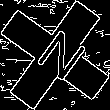N_SW: (24, 23, 86, 87)
